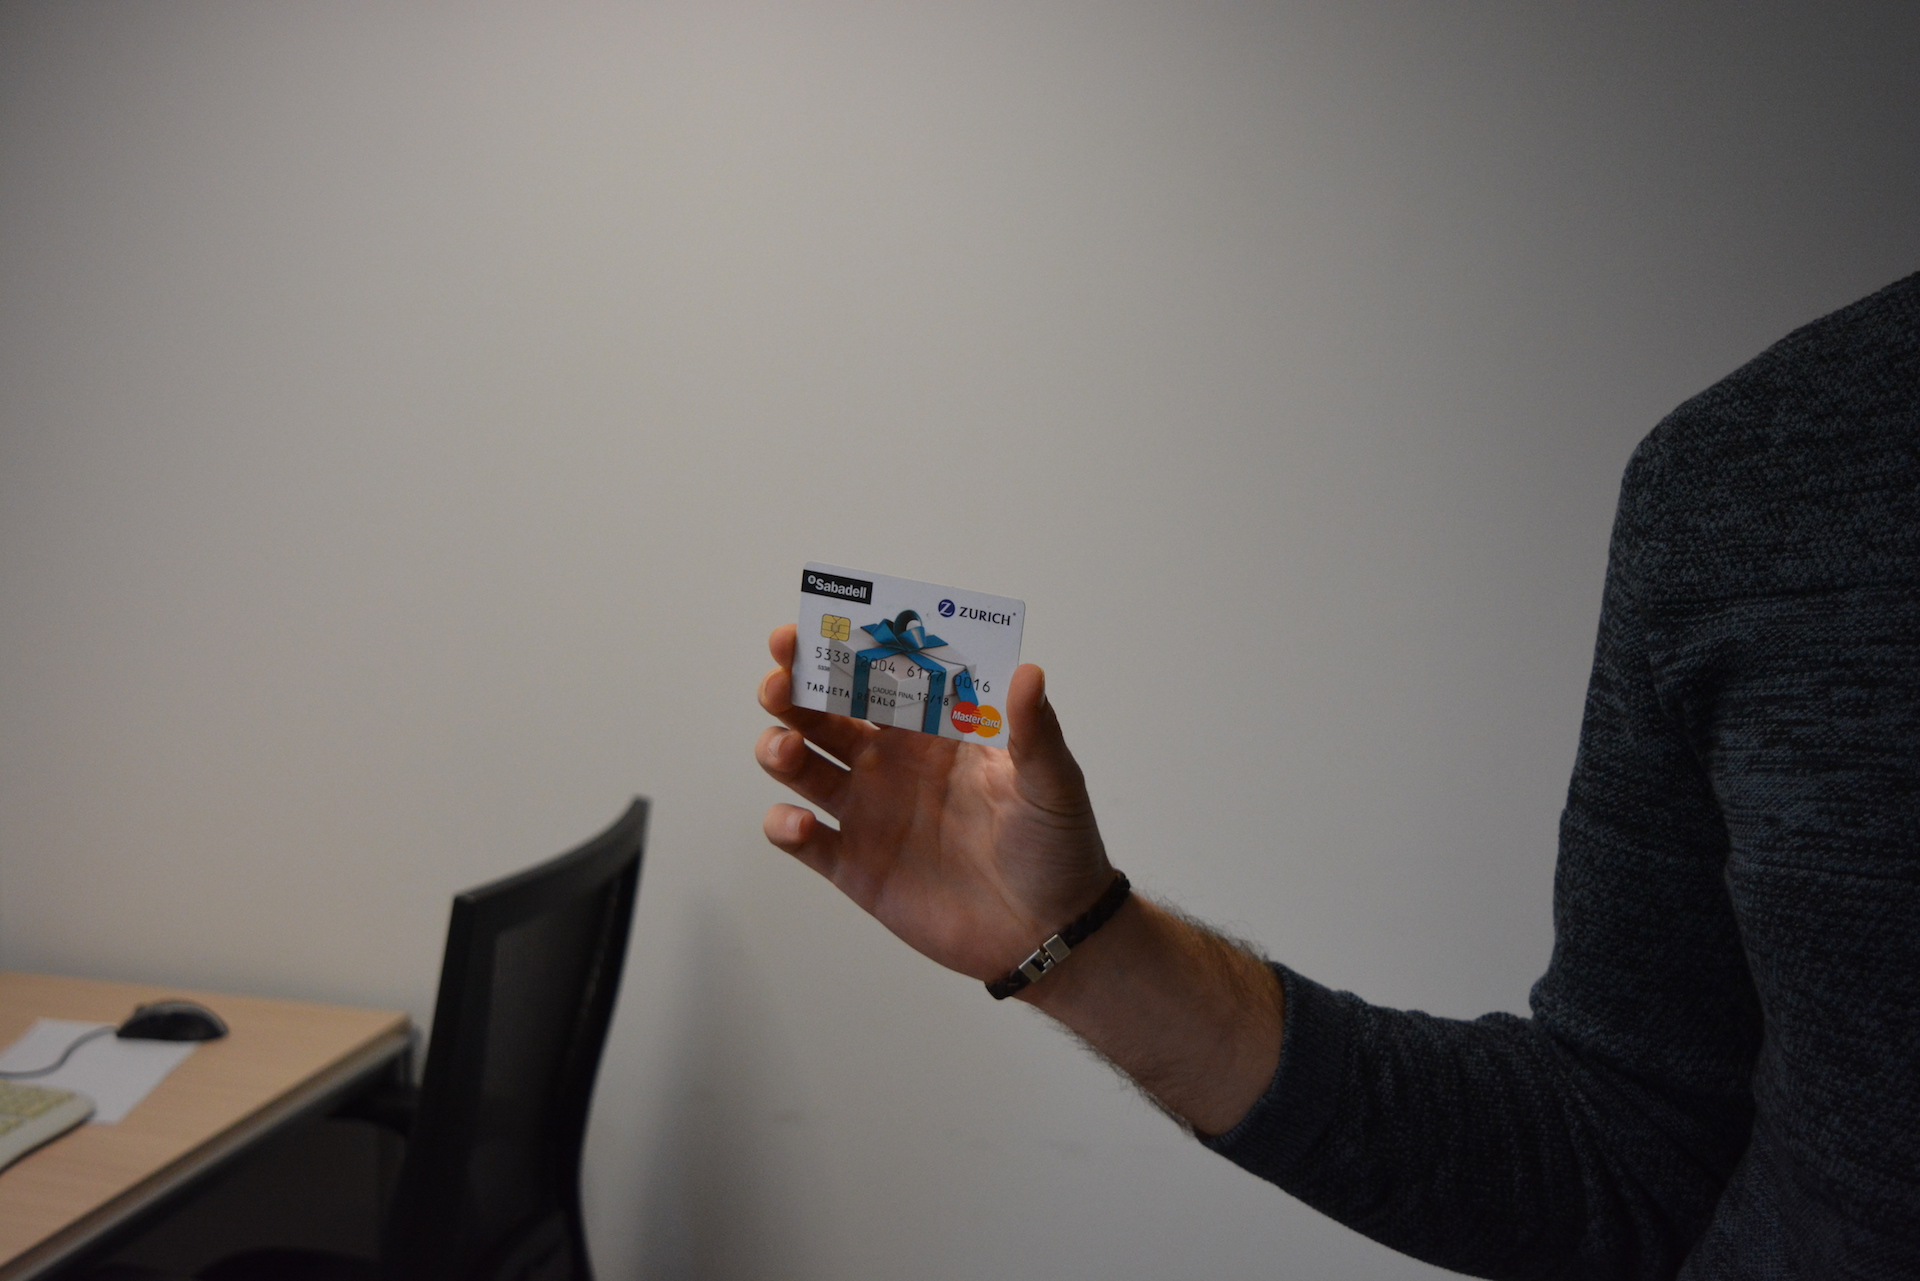tarjeta: (789, 559, 1026, 751)
